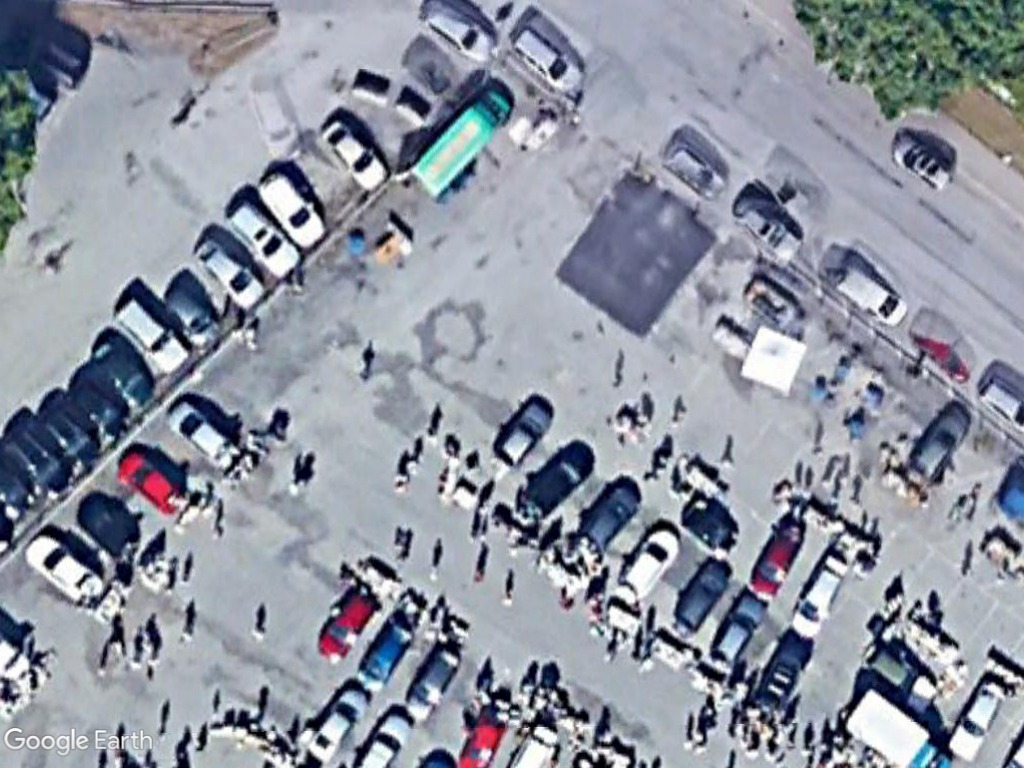car: (220, 192, 304, 285), (106, 295, 197, 379), (189, 229, 272, 316), (21, 528, 108, 610), (316, 111, 395, 199), (784, 548, 857, 641), (252, 167, 329, 253), (517, 441, 598, 521), (507, 20, 590, 98), (665, 555, 740, 639), (311, 583, 382, 666), (164, 395, 239, 472), (945, 673, 1009, 763), (401, 641, 468, 726), (487, 396, 560, 474), (299, 682, 377, 755), (884, 126, 960, 200), (745, 520, 814, 601), (906, 404, 976, 482), (702, 590, 771, 669), (355, 613, 421, 694), (116, 445, 186, 520), (612, 525, 681, 601), (575, 482, 649, 550), (160, 282, 226, 352)
van: (408, 80, 514, 202)
